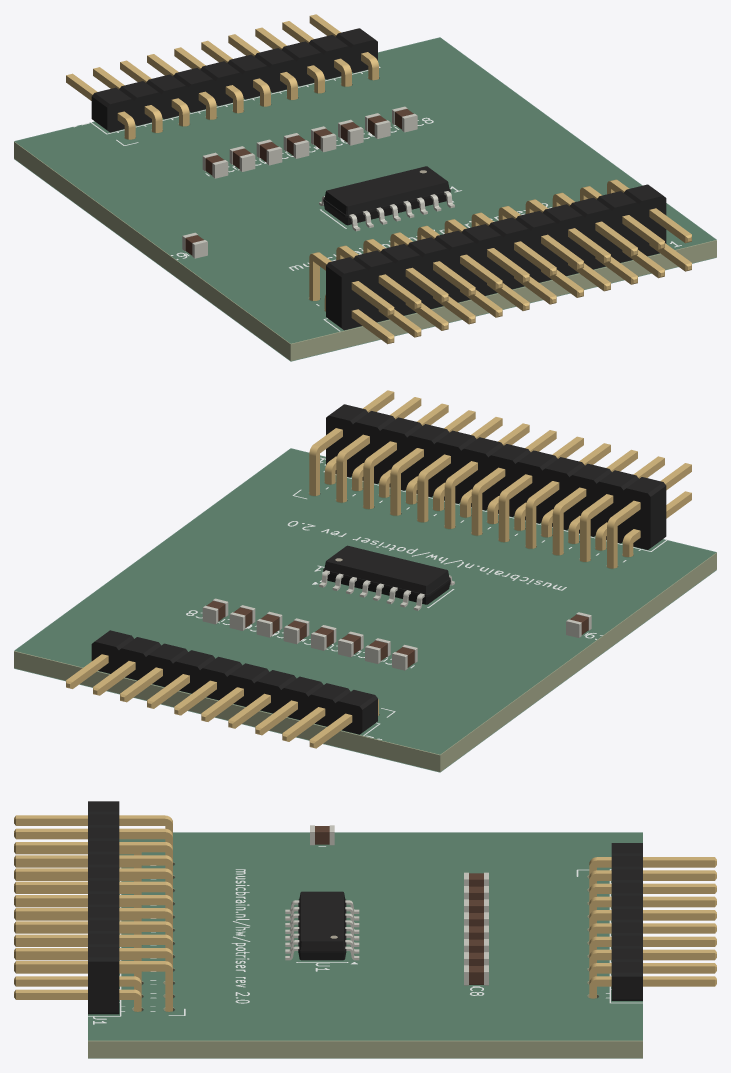
The model's file is musicbrain-potriser.glb.
3 renders of one model, top to bottom at view 1: azimuth 30°, elevation 25°; view 2: azimuth 150°, elevation 25°; view 3: azimuth 270°, elevation 25°, orthographic.
Visible parts, largest first — view 1: =>[0:1:1:13], =>[0:1:1:11], =>[0:1:1:3], =>[0:1:1:5], =>[0:1:1:7], =>[0:1:1:10], =>[0:1:1:12]; view 2: =>[0:1:1:13], =>[0:1:1:11], =>[0:1:1:3], =>[0:1:1:5], =>[0:1:1:7], =>[0:1:1:10], =>[0:1:1:12]; view 3: =>[0:1:1:13], =>[0:1:1:11], =>[0:1:1:3], =>[0:1:1:5], =>[0:1:1:7], =>[0:1:1:10], =>[0:1:1:9] (×2), =>[0:1:1:12].
Boxes of the visible parts, bbox=[...] form: =>[0:1:1:13]: bbox=[14, 38, 716, 360]; =>[0:1:1:11]: bbox=[14, 37, 716, 343]; =>[0:1:1:3]: bbox=[309, 179, 691, 344]; =>[0:1:1:5]: bbox=[66, 14, 378, 139]; =>[0:1:1:7]: bbox=[319, 166, 454, 231]; =>[0:1:1:10]: bbox=[73, 66, 681, 331]; =>[0:1:1:12]: bbox=[14, 159, 716, 361]; =>[0:1:1:13]: bbox=[14, 449, 716, 771]; =>[0:1:1:11]: bbox=[14, 448, 716, 754]; =>[0:1:1:3]: bbox=[309, 390, 691, 568]; =>[0:1:1:5]: bbox=[66, 630, 378, 748]; =>[0:1:1:7]: bbox=[319, 545, 454, 610]; =>[0:1:1:10]: bbox=[186, 457, 667, 739]; =>[0:1:1:12]: bbox=[14, 570, 716, 772]; =>[0:1:1:13]: bbox=[88, 833, 642, 1058]; =>[0:1:1:11]: bbox=[88, 832, 642, 1040]; =>[0:1:1:3]: bbox=[14, 801, 172, 1014]; =>[0:1:1:5]: bbox=[589, 843, 716, 1000]; =>[0:1:1:7]: bbox=[285, 891, 359, 960]; =>[0:1:1:10]: bbox=[88, 846, 642, 1024]; =>[0:1:1:9] (×2): bbox=[310, 825, 488, 985]; =>[0:1:1:12]: bbox=[88, 1058, 642, 1058].
Bounding box in the file's own units: 0.04 × 0.00808 × 0.057.
